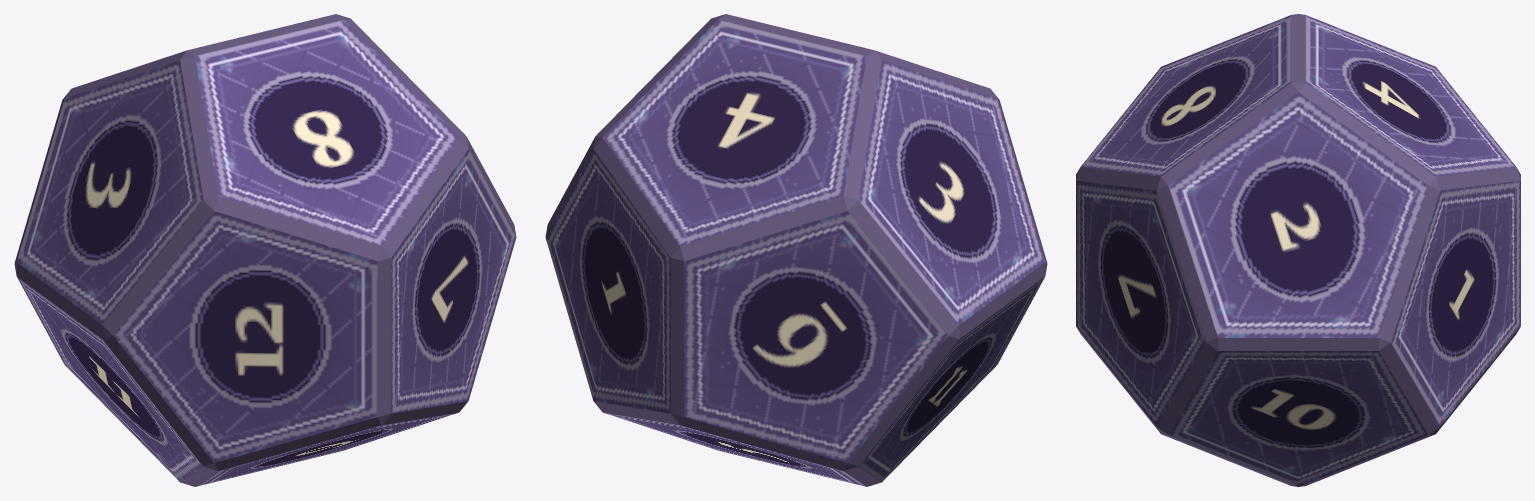
3 renders of one model, left to right at view 1: azimuth 30°, elevation 25°; view 2: azimuth 150°, elevation 25°; view 3: azimuth 270°, elevation 25°, orthographic. The views are drawn at different scales.
Size of the model in its own units: 165 by 165 by 165.
1 material, 1 textured.
